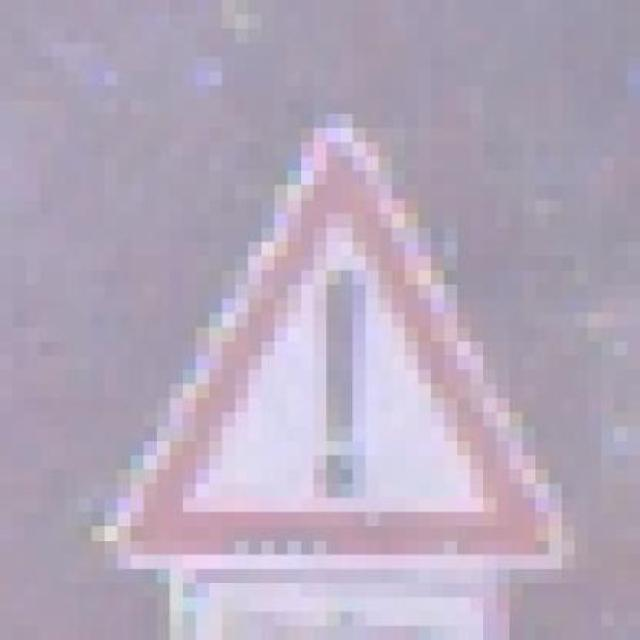Attention Please-: (66, 114, 574, 569)
